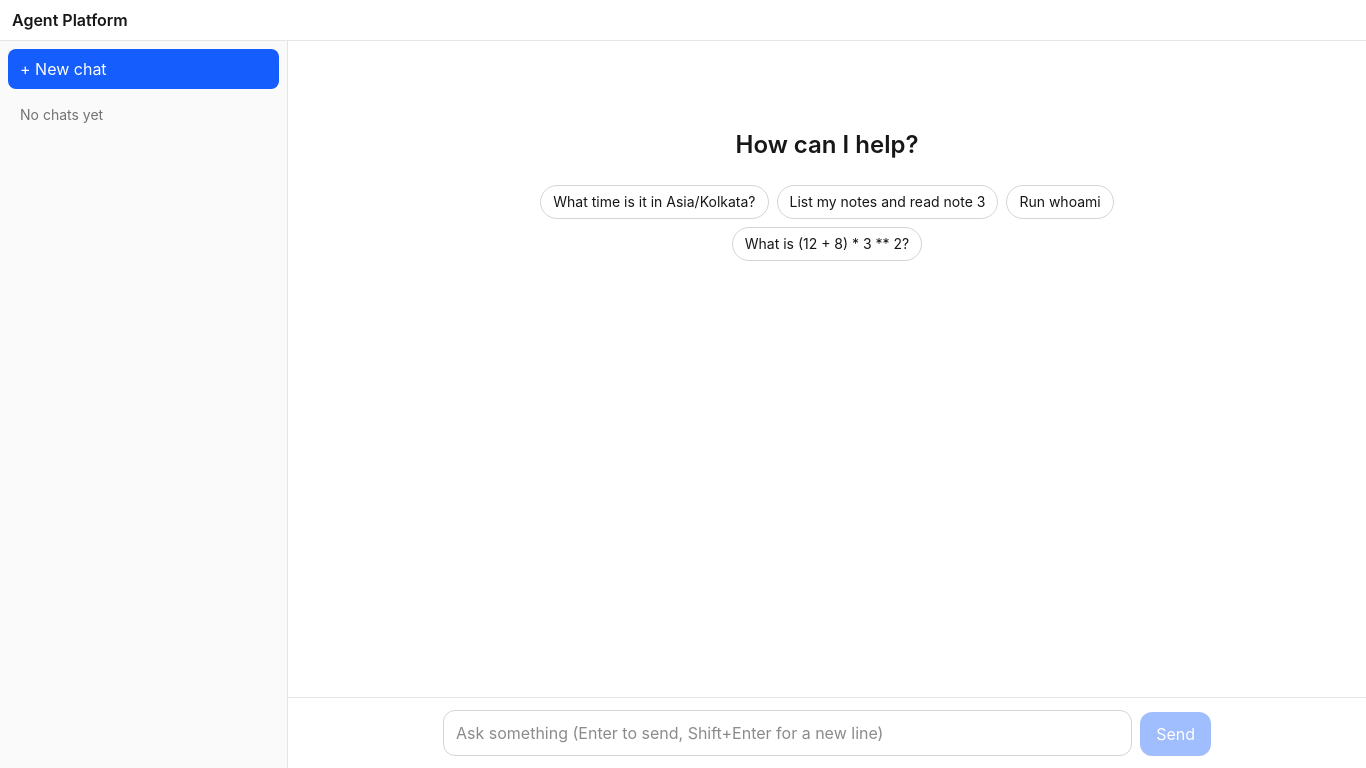
Test case: chat UI › streams an answer with a tool chip, sends auth headers, and shows the disclaimer
Step 1. Type "time?" into the text box named "Message" → (788, 733), box [443,710,1132,756]
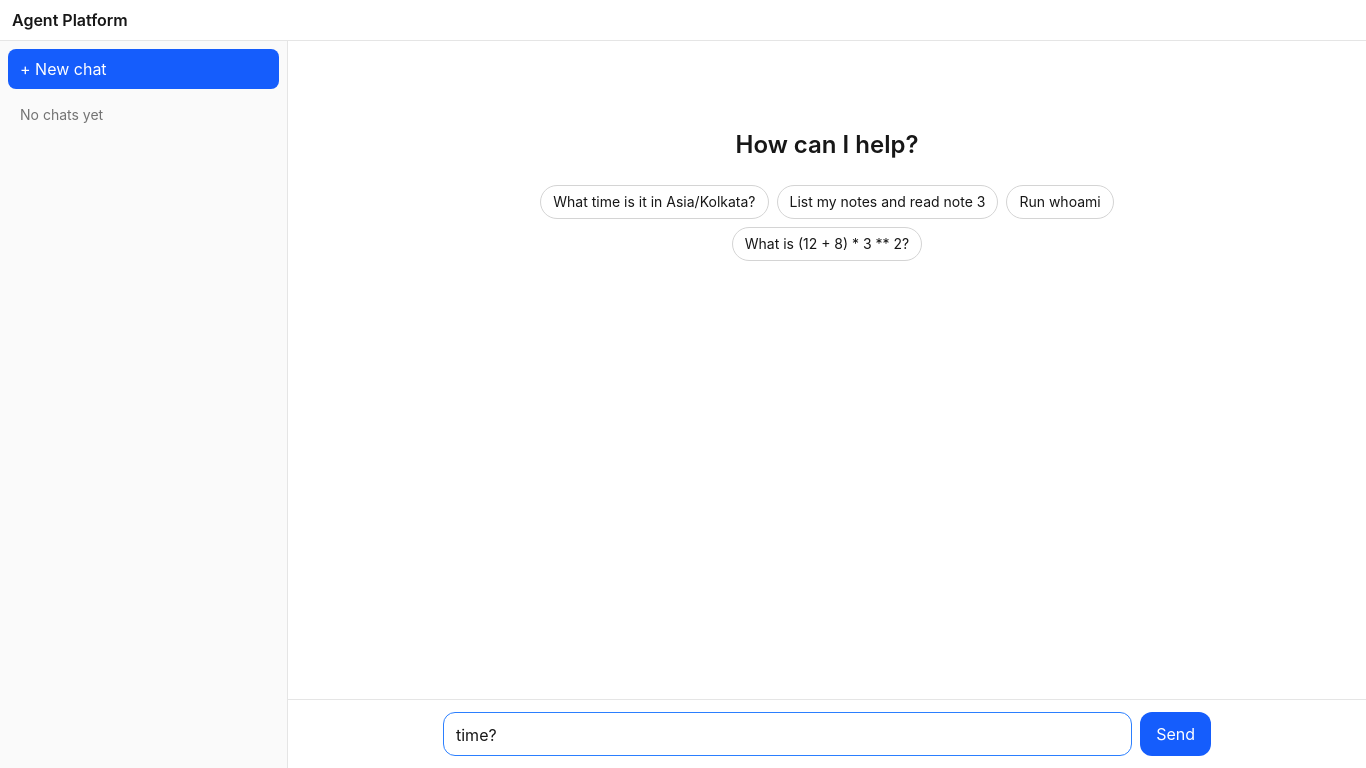
Step 2. Click the button "Send" → (1176, 734), box [1140,712,1211,756]
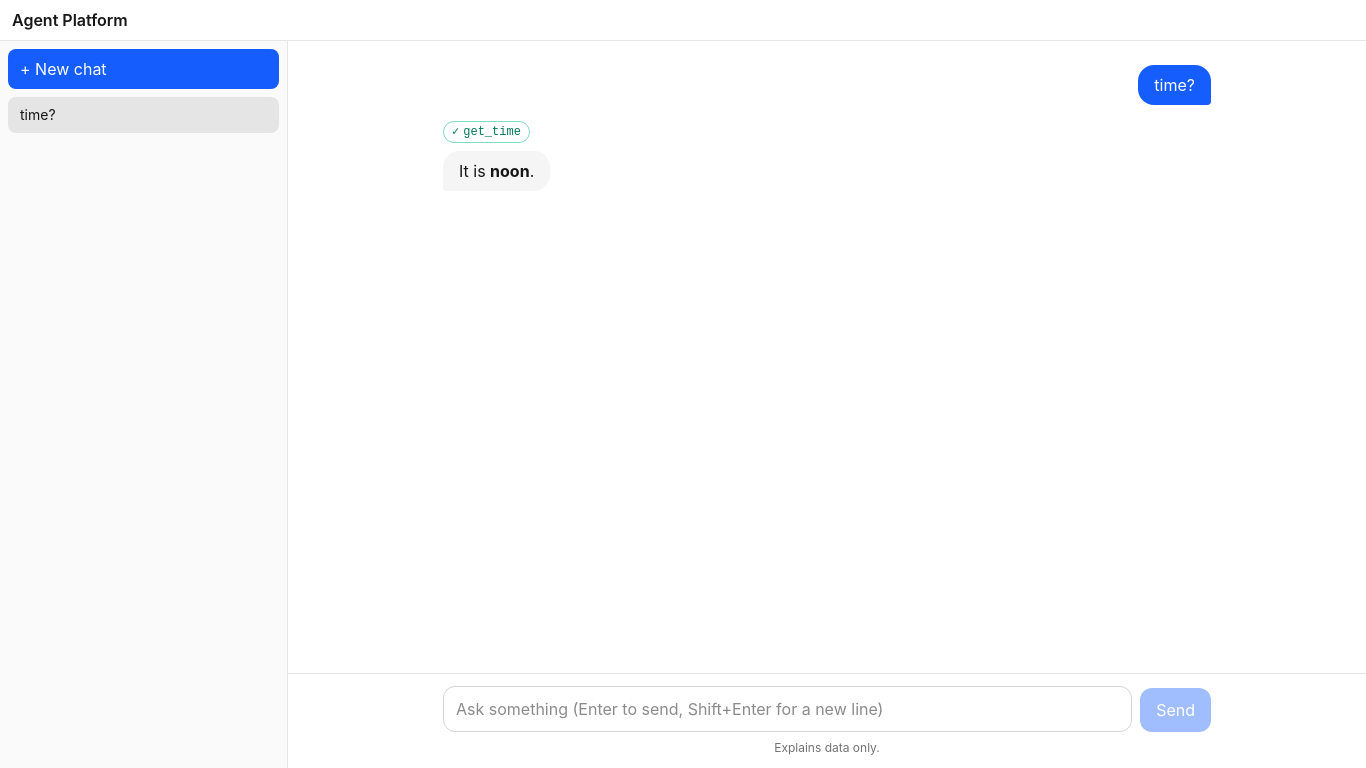
Result: the text "noon" is shown at [490,161,530,181]
Result: the element with test id "tool-chip" shows "get_time" at [463,125,521,139]
Result: the text "Explains data only." is shown at [774,740,880,755]
